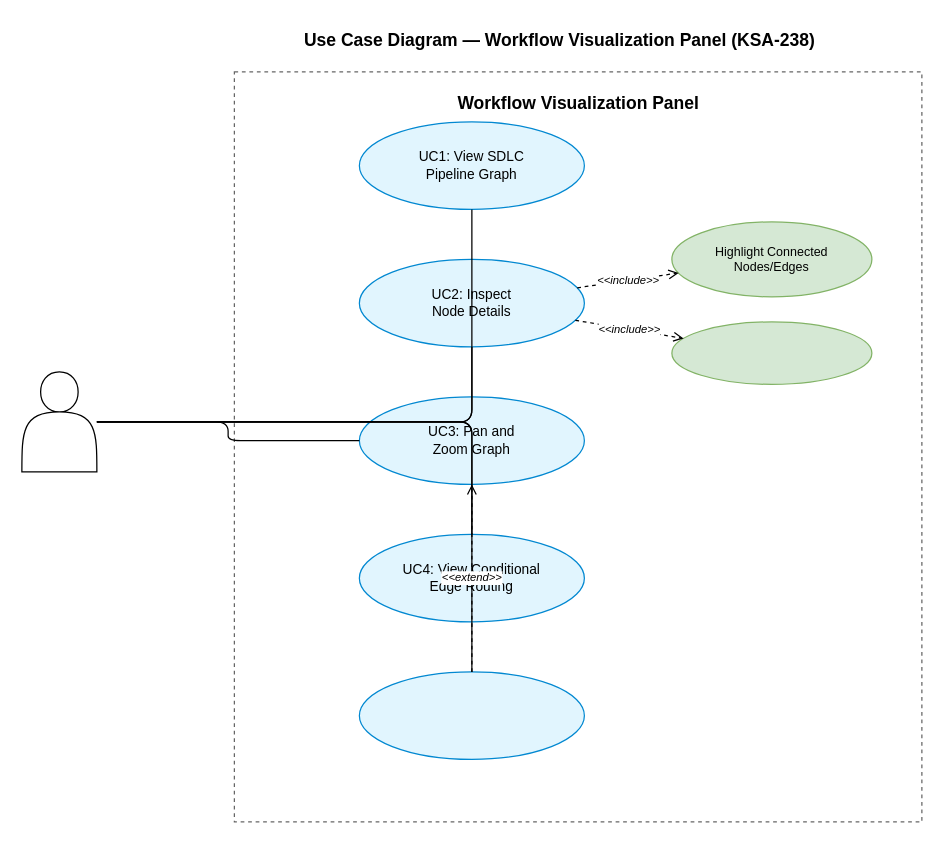
The diagram is 944 pixels wide and 844 high, and some of its shapes have lost their labels. Each missing label, with the centre of its shape:
Developer: the point at 59,421
Show Tooltip: the point at 771,352
UC5: Fit Graph to View: the point at 471,715
